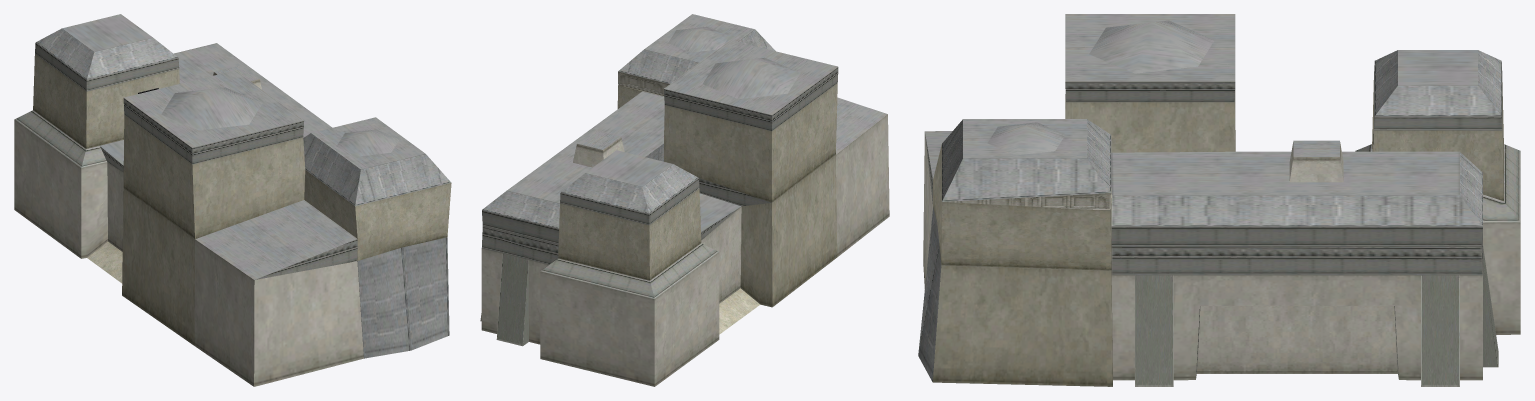
File: thm_corl_imprv_historic_32x16_s01_r0_mesh_l3.fbx
The picture shows the model from 3 angles, left to right: view 1: azimuth 30°, elevation 25°; view 2: azimuth 150°, elevation 25°; view 3: azimuth 270°, elevation 25°; orthographic projection. The views are drawn at different scales.
Visible parts, largest first — view 1: mesh_node; view 2: mesh_node; view 3: mesh_node.
Boxes of the visible parts, x1,y1,x2,y2 form: mesh_node: [14, 14, 451, 386]; mesh_node: [480, 14, 889, 386]; mesh_node: [918, 14, 1520, 386].
Bounding box in the file's own units: 15.67 × 15.42 × 31.15.
Materials: 1 (1 with a texture image).
